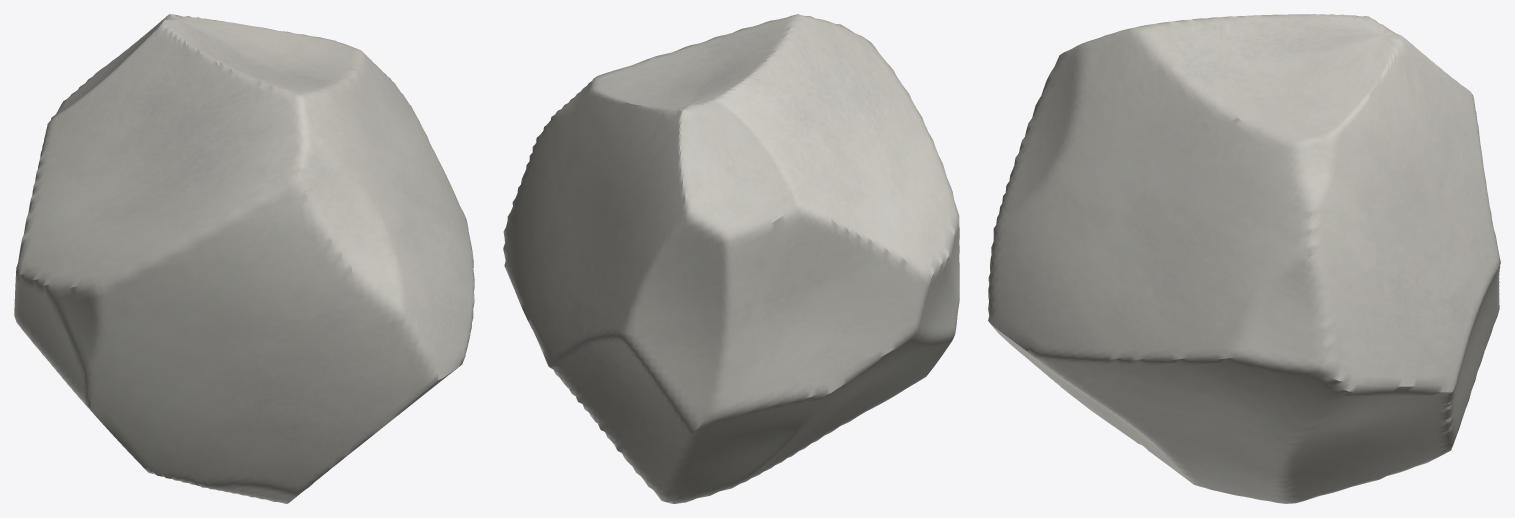
File: jrs stone.gltf
3 renders of one model, left to right at view 1: azimuth 30°, elevation 25°; view 2: azimuth 150°, elevation 25°; view 3: azimuth 270°, elevation 25°, orthographic. The views are drawn at different scales.
Visible parts, largest first — view 1: Sphere; view 2: Sphere; view 3: Sphere.
Boxes of the visible parts, <box> form: Sphere: <box>14,14,474,503</box>; Sphere: <box>503,14,959,503</box>; Sphere: <box>988,14,1500,503</box>.
Size of the model in its own units: 667 by 637 by 653.
Materials: 1 (1 with a texture image).
